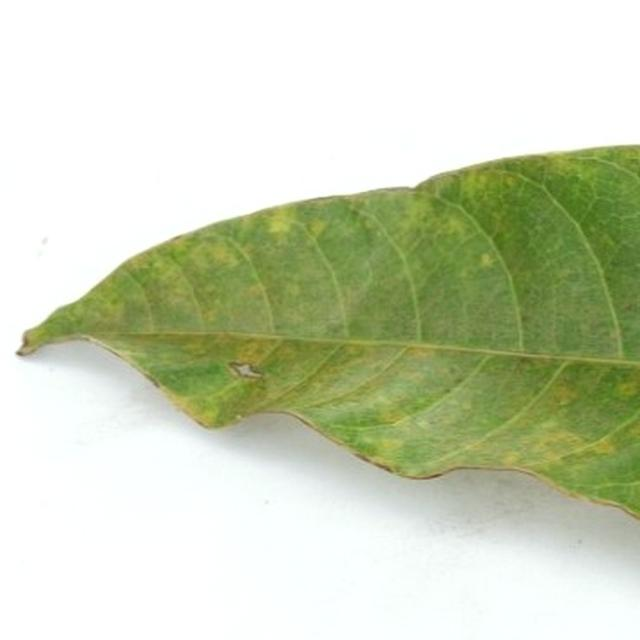Mango: (21, 145, 639, 516)
Powdery_Mildew: (129, 242, 209, 328), (449, 168, 536, 222), (555, 150, 638, 194), (535, 429, 593, 458), (232, 339, 274, 367), (194, 399, 227, 427), (605, 207, 640, 231), (209, 242, 241, 267), (264, 212, 294, 236), (551, 381, 580, 405), (440, 215, 469, 238), (376, 437, 403, 453), (617, 378, 640, 396), (306, 218, 327, 237), (282, 282, 303, 300), (406, 346, 434, 359), (246, 282, 267, 299), (378, 409, 403, 423), (143, 373, 161, 389), (501, 452, 521, 466), (620, 300, 638, 314), (481, 254, 495, 268), (460, 399, 473, 411)
